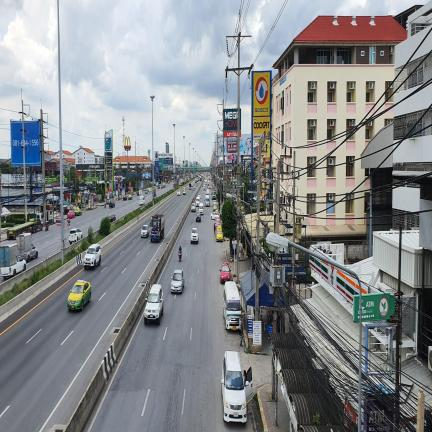car: (221, 351, 253, 422), (144, 284, 163, 325), (83, 244, 101, 268), (171, 270, 184, 293), (68, 228, 83, 244), (141, 224, 150, 237), (211, 211, 218, 220), (109, 214, 116, 222), (191, 203, 196, 212), (196, 213, 201, 222), (109, 201, 115, 208), (195, 198, 200, 206), (161, 183, 166, 188), (213, 200, 217, 206), (123, 195, 127, 201), (197, 194, 201, 200), (144, 189, 148, 194), (147, 187, 151, 192), (177, 190, 180, 196), (193, 185, 196, 189)
motorbike: (178, 251, 182, 261), (45, 223, 48, 231)
pickup: (190, 227, 198, 244)
taxi: (67, 280, 91, 310), (220, 262, 231, 283), (216, 226, 223, 241), (67, 210, 75, 219), (75, 207, 82, 216), (128, 194, 132, 200), (213, 205, 217, 211), (183, 188, 186, 195)
truck: (0, 243, 26, 279), (7, 214, 42, 240), (16, 233, 38, 262), (150, 214, 165, 242), (205, 193, 210, 206), (212, 188, 216, 199)
van: (223, 281, 241, 330), (139, 195, 145, 205), (199, 203, 204, 214)
